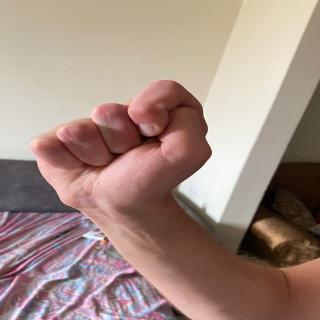FAA: (27, 77, 235, 206)
